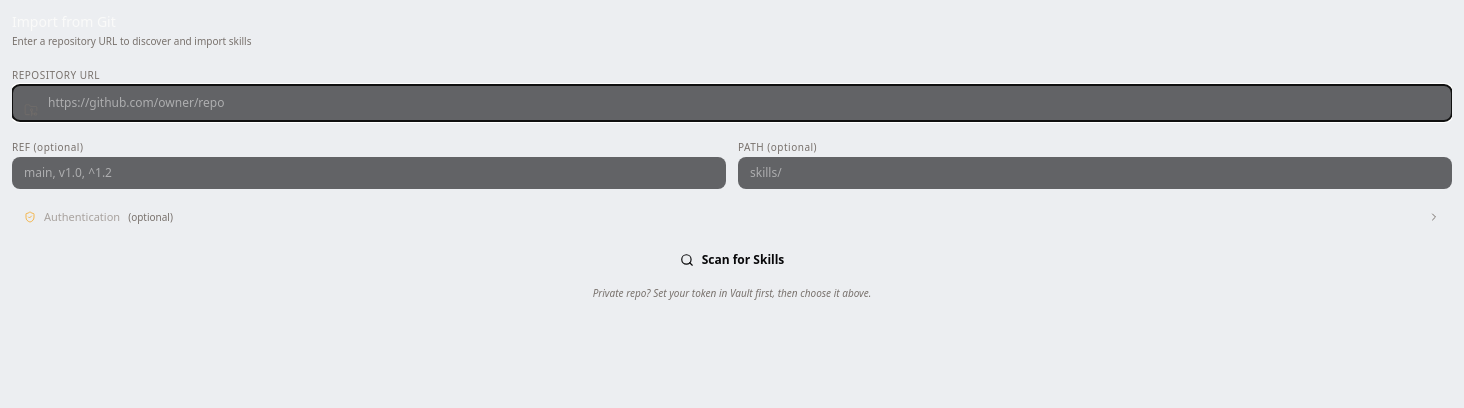
AddSourceStep — auth card › clicking the toggle expands the auth card
What coordinates should you click on to do the following:
click the button "Authentication (optional)"
I would click on:
 (82, 216)
Its box is [12,201,1452,234].
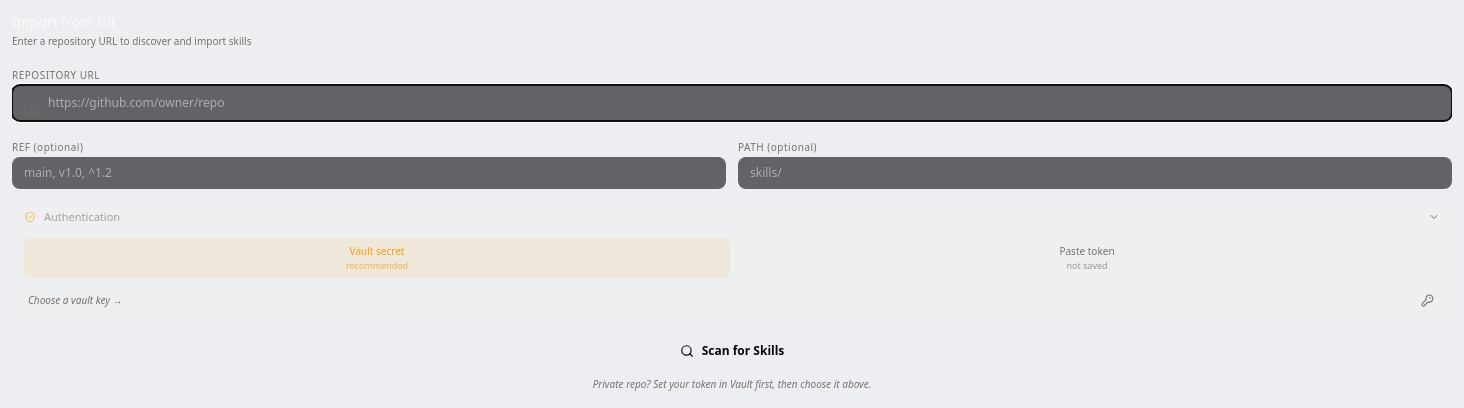
Expected: the button "Authentication" is expanded, [12,201,1452,234]
Expected: the text "Vault secret" is shown, [350,244,404,258]
Expected: the text "Paste token" is shown, [1059,244,1114,258]
